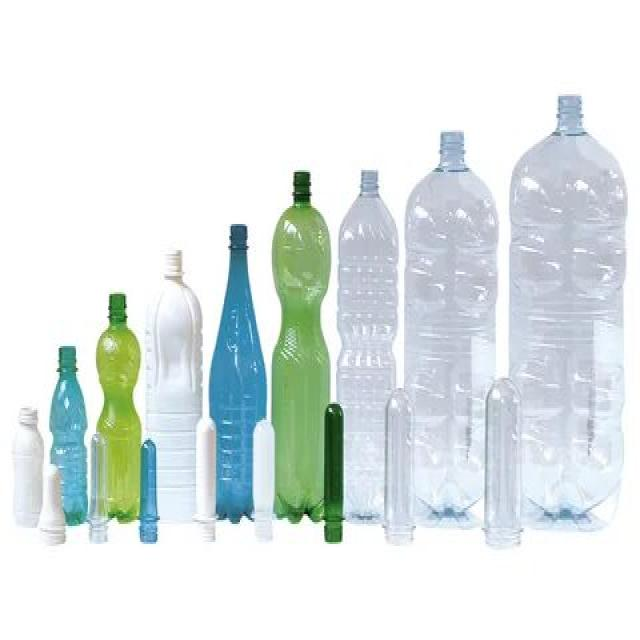green: (270, 168, 328, 525), (95, 292, 144, 522)
